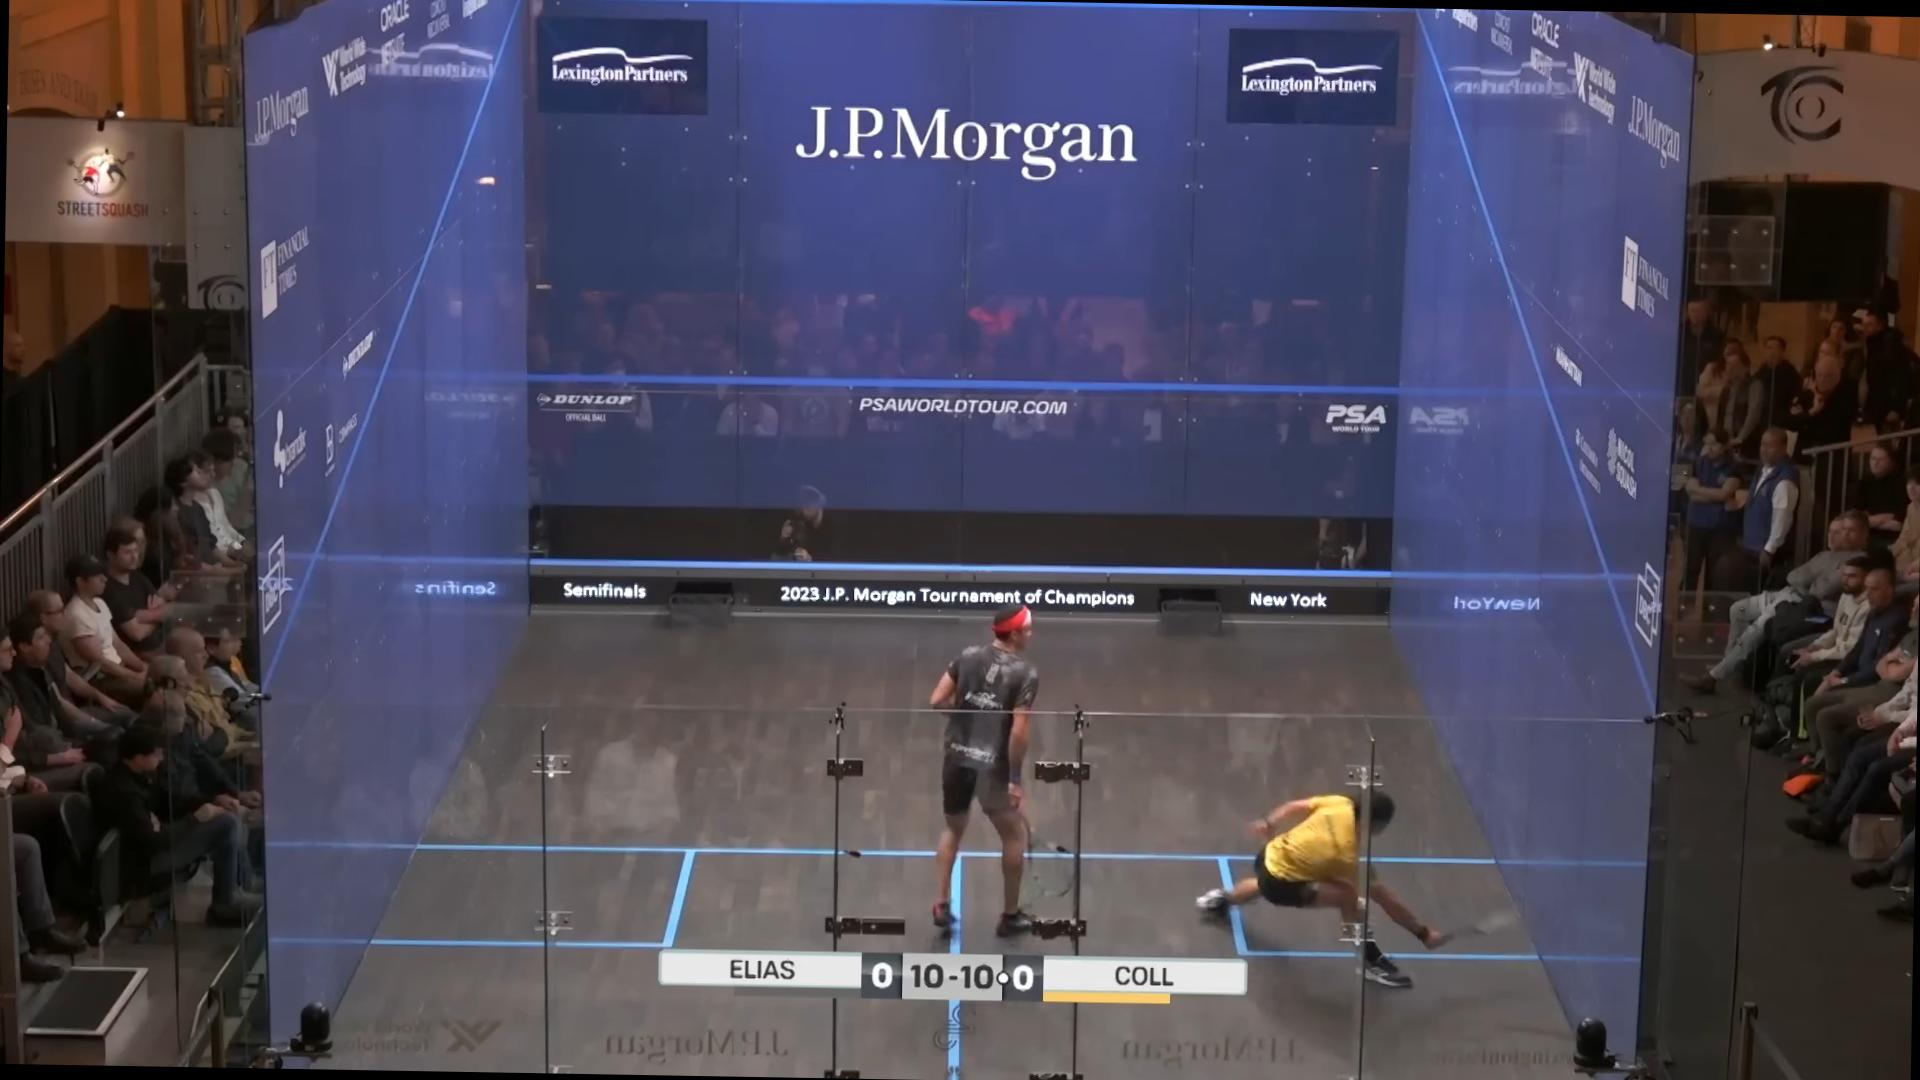Racket: (1006, 815, 1068, 914), (1445, 920, 1559, 972)
